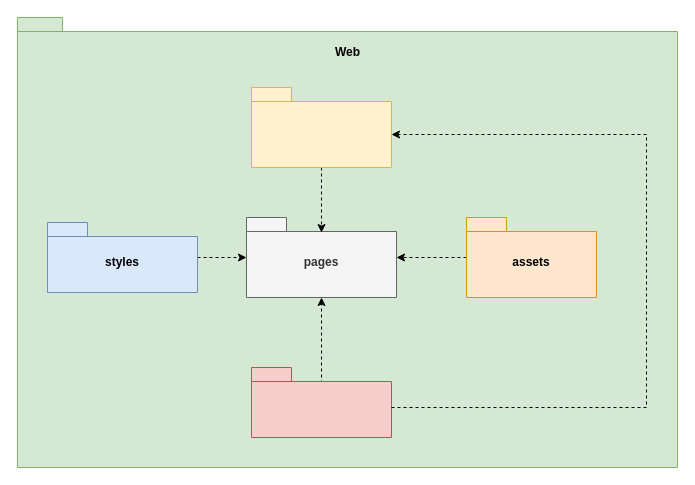
Image size: 695x485. Some labels were removed from this diagram. Here are the shapes that lost their labels. From the top down, the centre of each, then its label:
[321,127]: js
[321,402]: firebase
